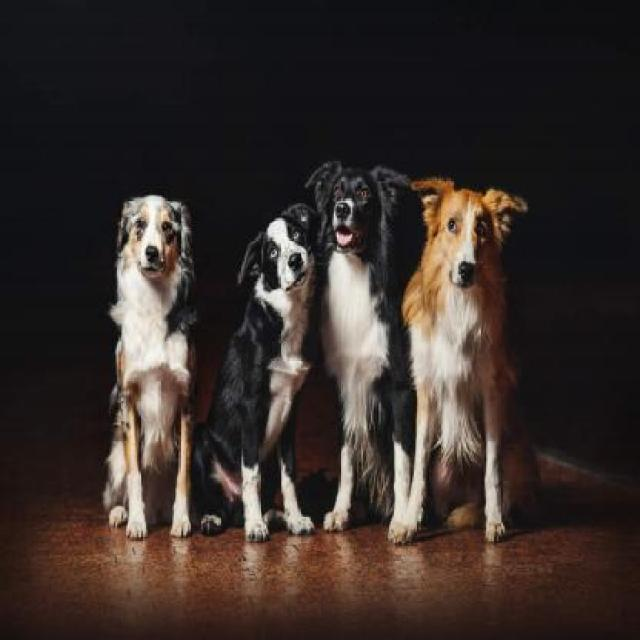animals: (412, 167, 525, 538), (209, 202, 317, 542), (308, 166, 408, 529), (110, 194, 199, 546)
